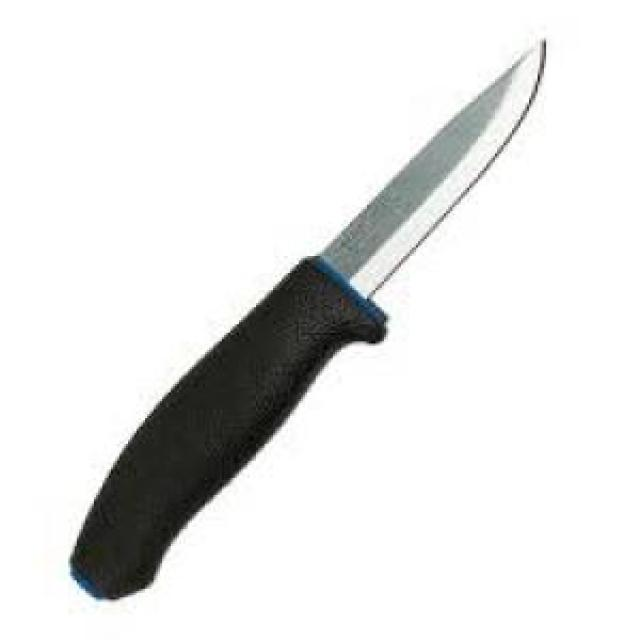knife: (69, 36, 552, 598)
